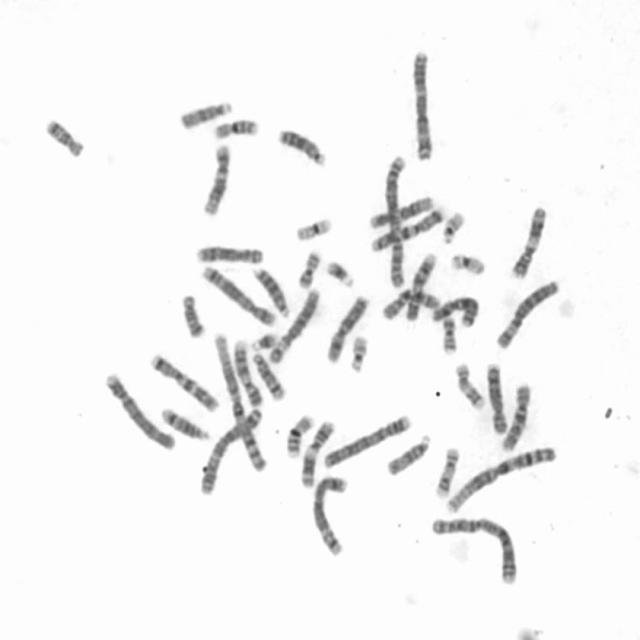A1: (444, 444, 557, 514), (213, 332, 269, 472)
A2: (429, 516, 521, 586), (384, 154, 406, 289)
A3: (197, 408, 263, 497), (411, 50, 434, 161)
B4: (102, 371, 177, 454), (321, 411, 412, 472)
B5: (200, 265, 278, 327), (310, 473, 348, 558)
C10: (500, 381, 532, 454), (379, 288, 444, 322)
C11: (510, 207, 548, 280), (299, 420, 336, 490)
C12: (367, 193, 434, 231), (200, 144, 230, 217)
C6: (494, 279, 558, 350), (266, 286, 321, 366)
C7: (150, 351, 221, 415), (369, 204, 448, 254)
C8: (486, 361, 509, 436), (195, 244, 264, 264)
C9: (403, 252, 438, 322), (233, 337, 264, 406)
D13: (252, 265, 290, 319), (276, 128, 326, 166)
D14: (160, 406, 212, 442), (252, 353, 286, 402)
D15: (384, 431, 432, 479), (179, 100, 233, 130)
E16: (284, 411, 315, 460), (212, 119, 260, 140)
E17: (454, 363, 486, 411), (434, 446, 459, 500)
E18: (40, 118, 90, 162), (180, 294, 207, 340)
F19: (294, 215, 336, 242), (446, 252, 486, 276)
F20: (296, 249, 322, 290), (441, 316, 457, 356)
G21: (326, 260, 355, 290), (250, 330, 280, 352)
G22: (348, 333, 371, 374), (442, 209, 467, 245)
X: (325, 293, 372, 364), (431, 294, 481, 330)
